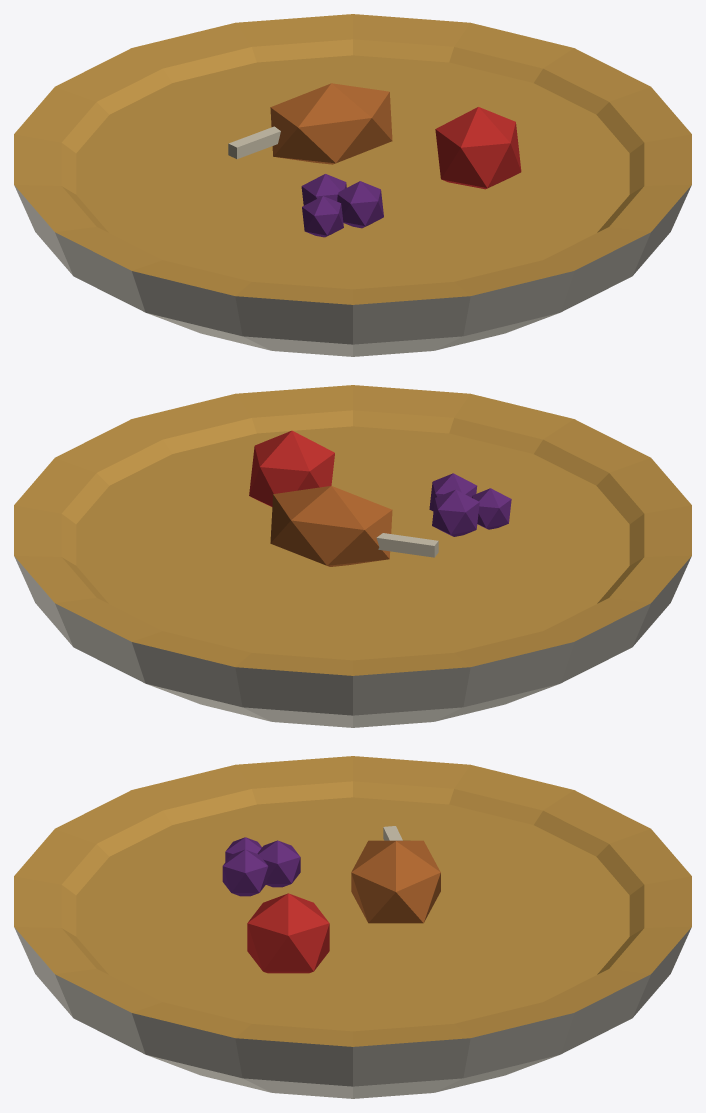
File: Grand_Feast.glb
3 views of the same model, one above another, from view 1: azimuth 30°, elevation 25°; view 2: azimuth 150°, elevation 25°; view 3: azimuth 270°, elevation 25° (orthographic).
Parts seen in each view (by area): view 1: _I_GrandFeast; view 2: _I_GrandFeast; view 3: _I_GrandFeast.
Boxes of the visible parts, bbox=[...] form: _I_GrandFeast: bbox=[14, 14, 691, 356]; _I_GrandFeast: bbox=[14, 385, 691, 727]; _I_GrandFeast: bbox=[14, 756, 691, 1098].
Size of the model in its own units: 0.64 by 0.182 by 0.6303.
